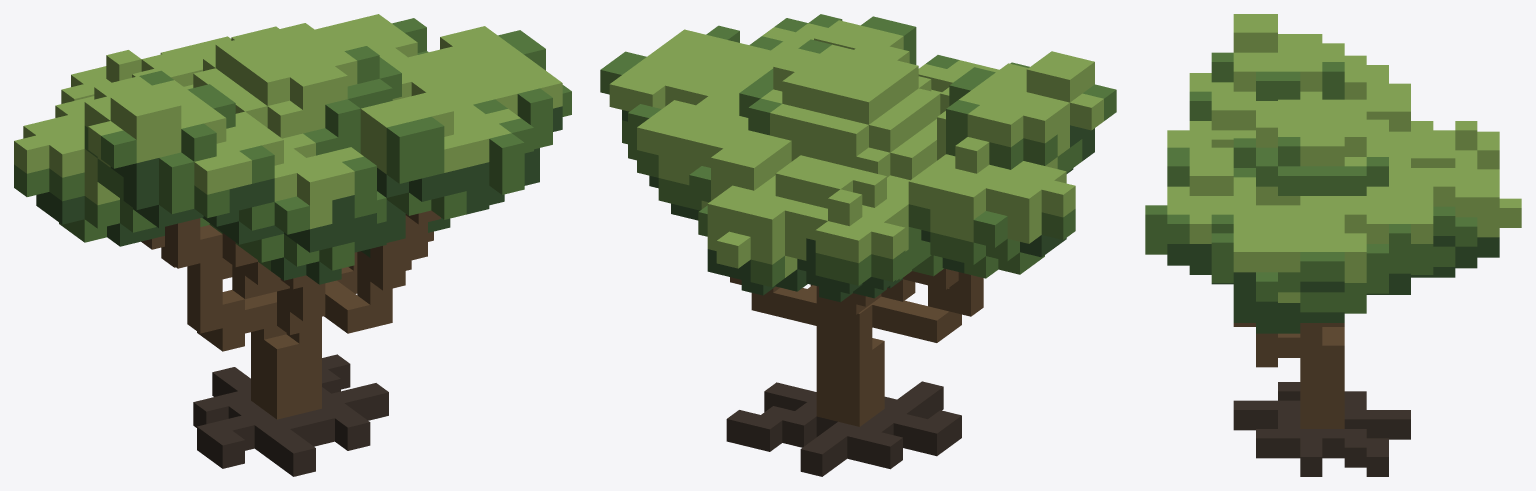
File: ancient_oak_v2_far.glb
The picture shows the model from 3 angles, left to right: view 1: azimuth 30°, elevation 25°; view 2: azimuth 150°, elevation 25°; view 3: azimuth 270°, elevation 25°; orthographic projection. The views are drawn at different scales.
Parts seen in each view (by area): view 1: ancient_oak_v2_far; view 2: ancient_oak_v2_far; view 3: ancient_oak_v2_far.
Part boxes in pixels (x1,y1,x2,y2): ancient_oak_v2_far: (14, 14, 571, 476); ancient_oak_v2_far: (600, 14, 1116, 476); ancient_oak_v2_far: (1145, 14, 1521, 476).
Bounding box in the file's own units: 11 × 8.5 × 8.5.
Materials: 1 (1 with a texture image).
